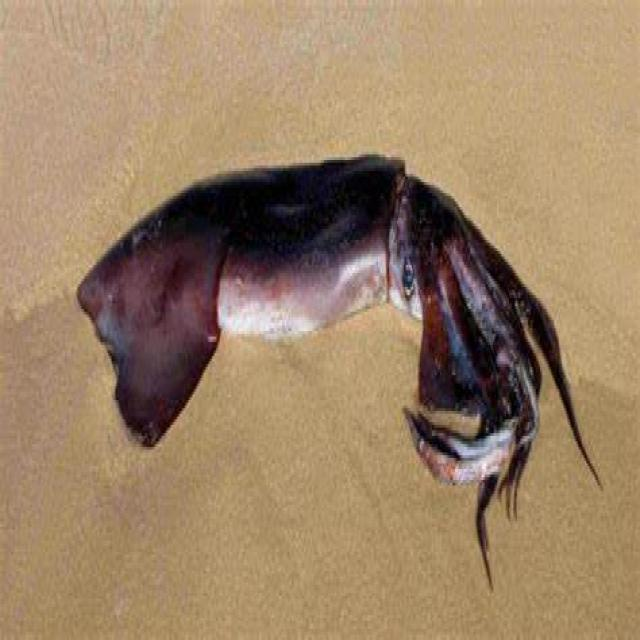SQUID: (54, 128, 631, 545)
